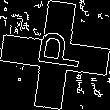P_W: (27, 33, 83, 77)
